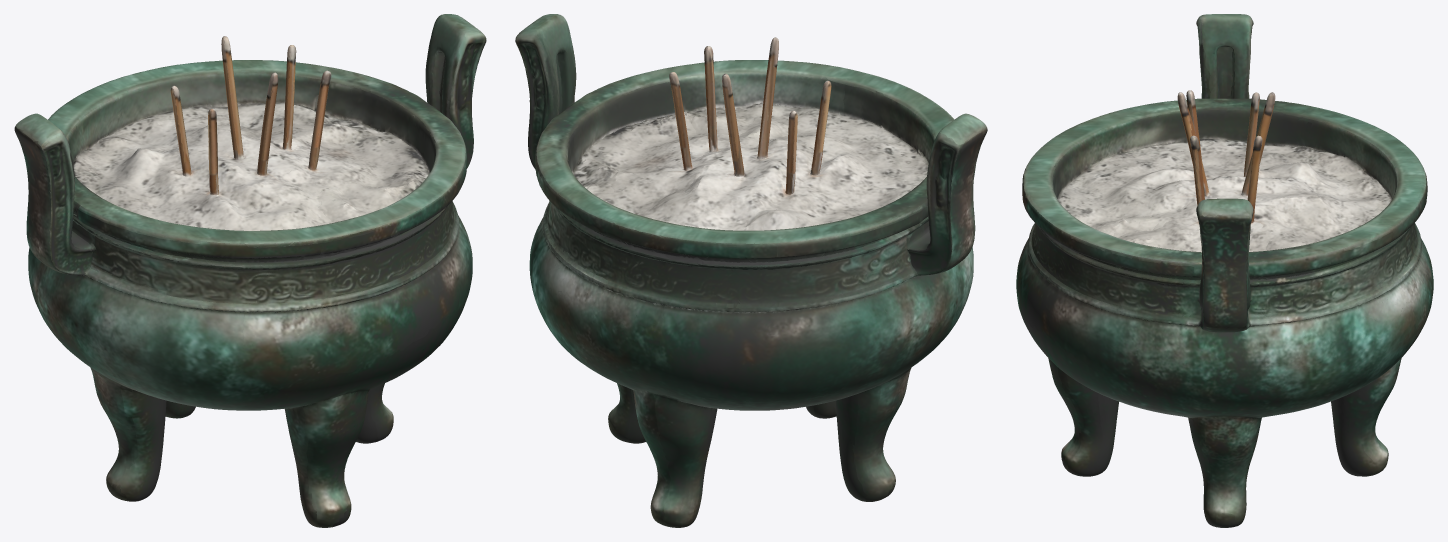
File: S1-06_censer_A.glb
3 renders of one model, left to right at view 1: azimuth 30°, elevation 25°; view 2: azimuth 150°, elevation 25°; view 3: azimuth 270°, elevation 25°, orthographic. The views are drawn at different scales.
Visible parts, largest first — view 1: geometry_0; view 2: geometry_0; view 3: geometry_0.
Boxes of the visible parts, <box> form: geometry_0: <box>14,14,486,527</box>; geometry_0: <box>515,14,987,527</box>; geometry_0: <box>1016,14,1433,527</box>.
Bounding box in the file's own units: 0.5 × 0.4425 × 0.4393.
Materials: 1 (1 with a texture image).
